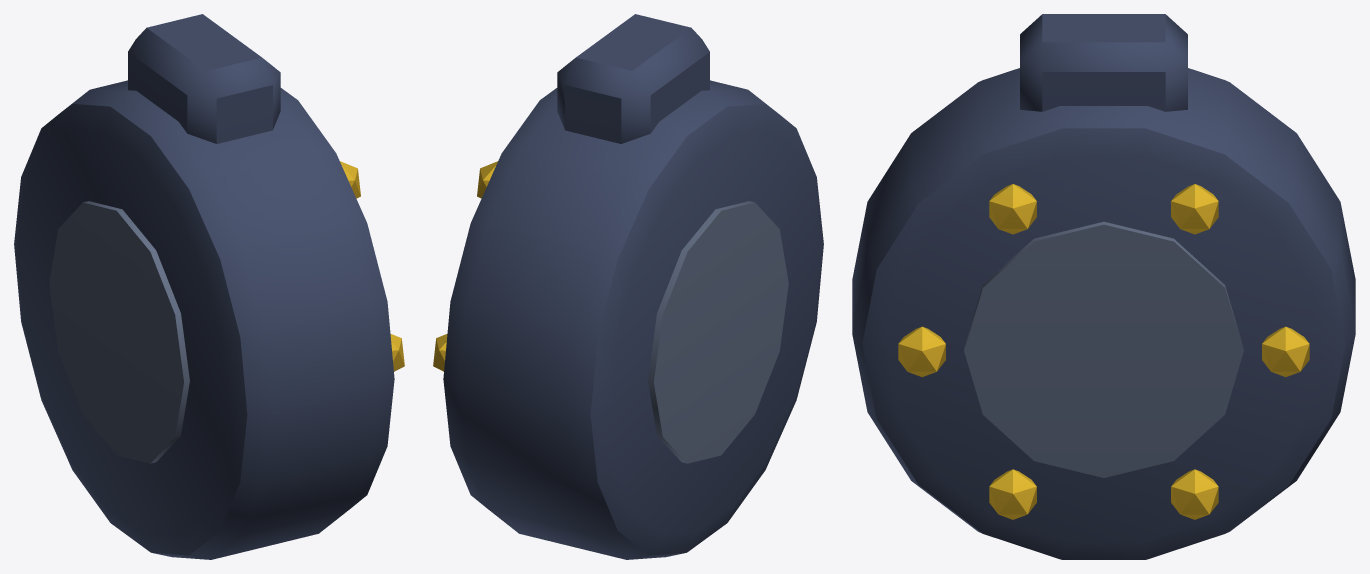
The model's file is mod_drum.glb.
3 renders of one model, left to right at view 1: azimuth 30°, elevation 25°; view 2: azimuth 150°, elevation 25°; view 3: azimuth 270°, elevation 25°, orthographic. The views are drawn at different scales.
Visible parts, largest first — view 1: body; view 2: body; view 3: body.
Part boxes in pixels (x1,y1,x2,y2): body: (14, 14, 404, 559); body: (433, 14, 823, 559); body: (852, 14, 1355, 559).
Bounding box in the file's own units: 0.0844 × 0.1986 × 0.18.
